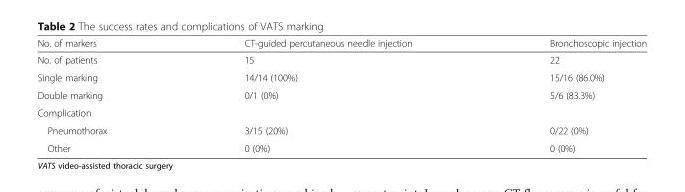table: (36, 37, 646, 153)
table column: (175, 37, 480, 153), (480, 37, 646, 153), (36, 37, 175, 153)
table column header: (36, 37, 646, 51)
table projected row header: (36, 103, 646, 121)
table row: (36, 85, 646, 103), (36, 103, 646, 121), (36, 121, 646, 139), (36, 51, 646, 68), (36, 68, 646, 85), (36, 37, 646, 51), (36, 139, 646, 153)
